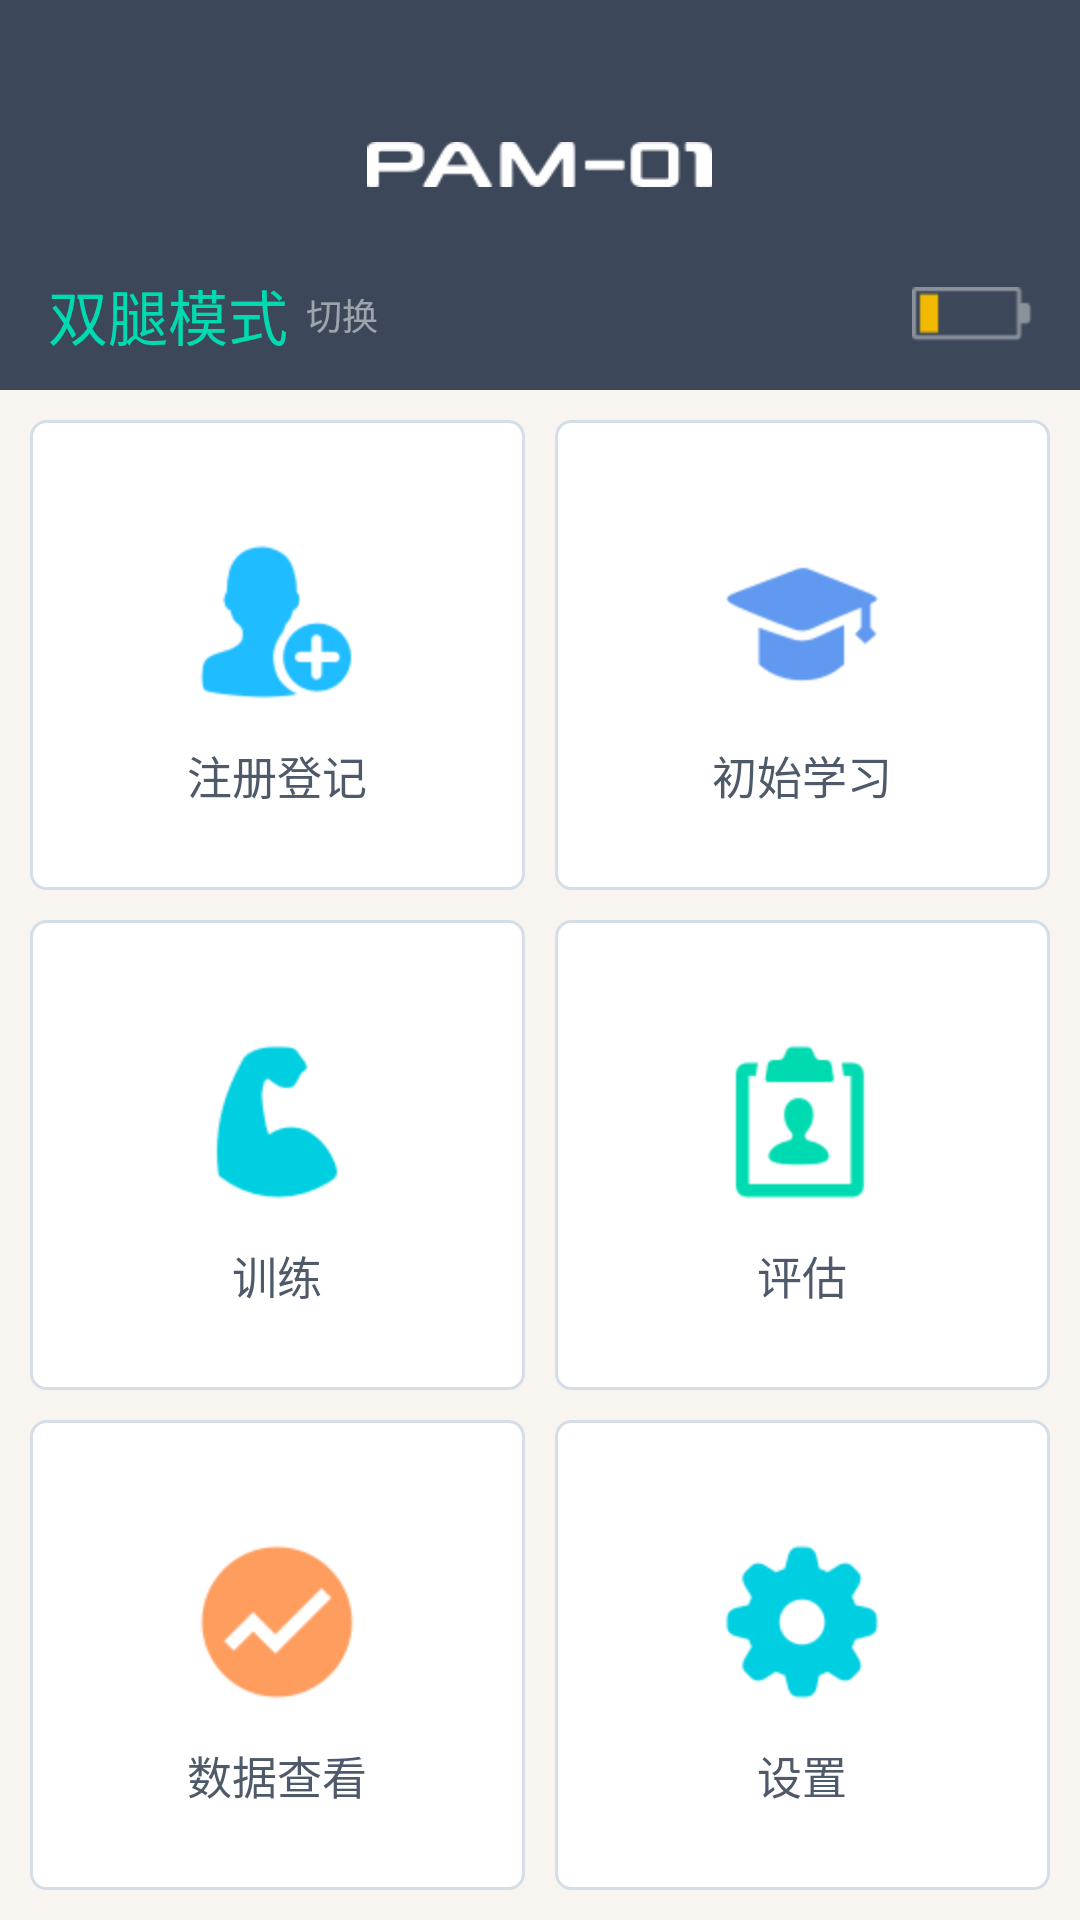

Named icons in this screenshot (1080x1920) and their centers, point (x, y):
electricity: point (971, 313)
